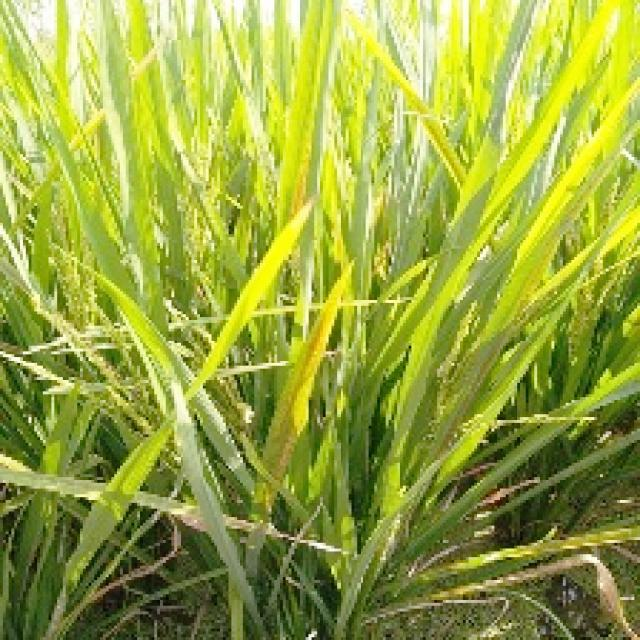health: (340, 0, 640, 497)
